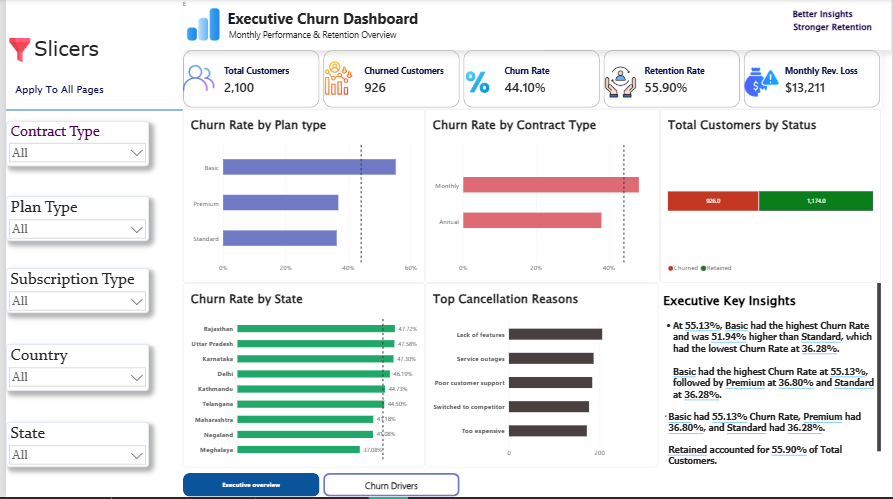

What the dashboard file says about the page in this screenshot:
{"tool":"powerbi","page":{"name":"Executive overview","canvas":[1920,1080],"ordinal":0},"visuals":[{"type":"cardVisual","fields":{"Data":["customer_churn_scaled.Total Customers","customer_churn_scaled.Churned Customers","customer_churn_scaled.Churn Rate","customer_churn_scaled.Retention Rate","customer_churn_scaled.Monthly Revenue Lost"]},"box":[383,110.9,1514,126],"z":0},{"type":"clusteredBarChart","title":"Churn Rate by Plan type","fields":{"Category":["customer_churn_scaled.PlanType"],"Y":["customer_churn_scaled.Churn Rate"]},"box":[383.9,238.6,525.4,376.7],"z":1000},{"type":"clusteredBarChart","title":"Churn Rate by Contract Type","fields":{"Category":["customer_churn_scaled.ContractType"],"Y":["customer_churn_scaled.Churn Rate"]},"box":[908.8,237.9,508.9,376.7],"z":2000},{"type":"hundredPercentStackedBarChart","title":"Total Customers by Status","fields":{"Series":["customer_churn_scaled.Status"],"Y":["customer_churn_scaled.Total Customers"]},"box":[1417.7,237.9,479.2,376.7],"z":3000},{"type":"textbox","box":[60.7,80.2,223.4,99.8],"z":4000},{"type":"slicer","fields":{"Values":["customer_churn_scaled.ContractType"]},"box":[0,264.6,310.1,97.6],"z":5000},{"type":"clusteredBarChart","fields":{"Category":["customer_churn_scaled.State"],"Y":["customer_churn_scaled.Churn Rate"]},"box":[383.9,615.9,525.4,399.9],"z":6000},{"type":"clusteredBarChart","title":"Top Cancellation Reasons","fields":{"Category":["customer_churn_scaled.CancellationReason"],"Y":["customer_churn_scaled.Churned Customers"]},"box":[908.7,615.9,505.6,399.9],"z":7000},{"type":"textbox","box":[1418.3,615.9,479.3,399],"z":8000},{"type":"pageNavigator","box":[383.7,1027.9,600,51.2],"z":9000},{"type":"shape","box":[383.9,0,1535.4,110.6],"z":10000},{"type":"textbox","box":[383,0,781.1,110.9],"z":11000},{"type":"textbox","box":[1695.7,0,201.6,110.9],"z":12000},{"type":"image","box":[384,14,88,84],"z":13000},{"type":"image","box":[384,134,68,74],"z":14000},{"type":"image","box":[684,134,76,74],"z":15000},{"type":"image","box":[1600,144,76,74],"z":16000},{"type":"image","box":[1294,144,76,74],"z":17000},{"type":"image","box":[984,144,76,74],"z":18000},{"type":"slicer","fields":{"Values":["customer_churn_scaled.State"]},"box":[0,917.3,310.1,97.6],"z":19000},{"type":"slicer","fields":{"Values":["customer_churn_scaled.PlanType"]},"box":[0,427.2,310.1,97.6],"z":20000},{"type":"slicer","fields":{"Values":["customer_churn_scaled.SubscriptionType"]},"box":[0,583.4,310.1,97.6],"z":21000},{"type":"slicer","fields":{"Values":["customer_churn_scaled.Country"]},"box":[0,748.2,310.1,101.9],"z":22000},{"type":"shape","box":[0,216.9,383.9,47.7],"z":23000},{"type":"image","box":[0,84.6,60.7,52],"z":24000},{"type":"textbox","box":[0,180,227.7,56.4],"z":25000}]}

Visuals, with their boxes in screenshot pixels (x1, y1, x2, y2), scaled from the page's 1920x1080 canvas onto the 893x499 screenshot:
cardVisual - customer_churn_scaled.Total Customers x customer_churn_scaled.Churned Customers: <region>178, 51, 882, 109</region>
"Churn Rate by Plan type" clusteredBarChart: <region>179, 110, 423, 284</region>
"Churn Rate by Contract Type" clusteredBarChart: <region>423, 110, 659, 284</region>
"Total Customers by Status" hundredPercentStackedBarChart: <region>659, 110, 882, 284</region>
textbox: <region>28, 37, 132, 83</region>
slicer - customer_churn_scaled.ContractType: <region>0, 122, 144, 167</region>
clusteredBarChart - customer_churn_scaled.State x customer_churn_scaled.Churn Rate: <region>179, 285, 423, 469</region>
"Top Cancellation Reasons" clusteredBarChart: <region>423, 285, 658, 469</region>
textbox: <region>660, 285, 883, 469</region>
pageNavigator: <region>178, 475, 458, 498</region>
shape: <region>179, 0, 892, 51</region>
textbox: <region>178, 0, 541, 51</region>
textbox: <region>789, 0, 882, 51</region>
image: <region>179, 6, 220, 45</region>
image: <region>179, 62, 210, 96</region>
image: <region>318, 62, 353, 96</region>
image: <region>744, 67, 780, 101</region>
image: <region>602, 67, 637, 101</region>
image: <region>458, 67, 493, 101</region>
slicer - customer_churn_scaled.State: <region>0, 424, 144, 469</region>
slicer - customer_churn_scaled.PlanType: <region>0, 197, 144, 242</region>
slicer - customer_churn_scaled.SubscriptionType: <region>0, 270, 144, 315</region>
slicer - customer_churn_scaled.Country: <region>0, 346, 144, 393</region>
shape: <region>0, 100, 179, 122</region>
image: <region>0, 39, 28, 63</region>
textbox: <region>0, 83, 106, 109</region>
